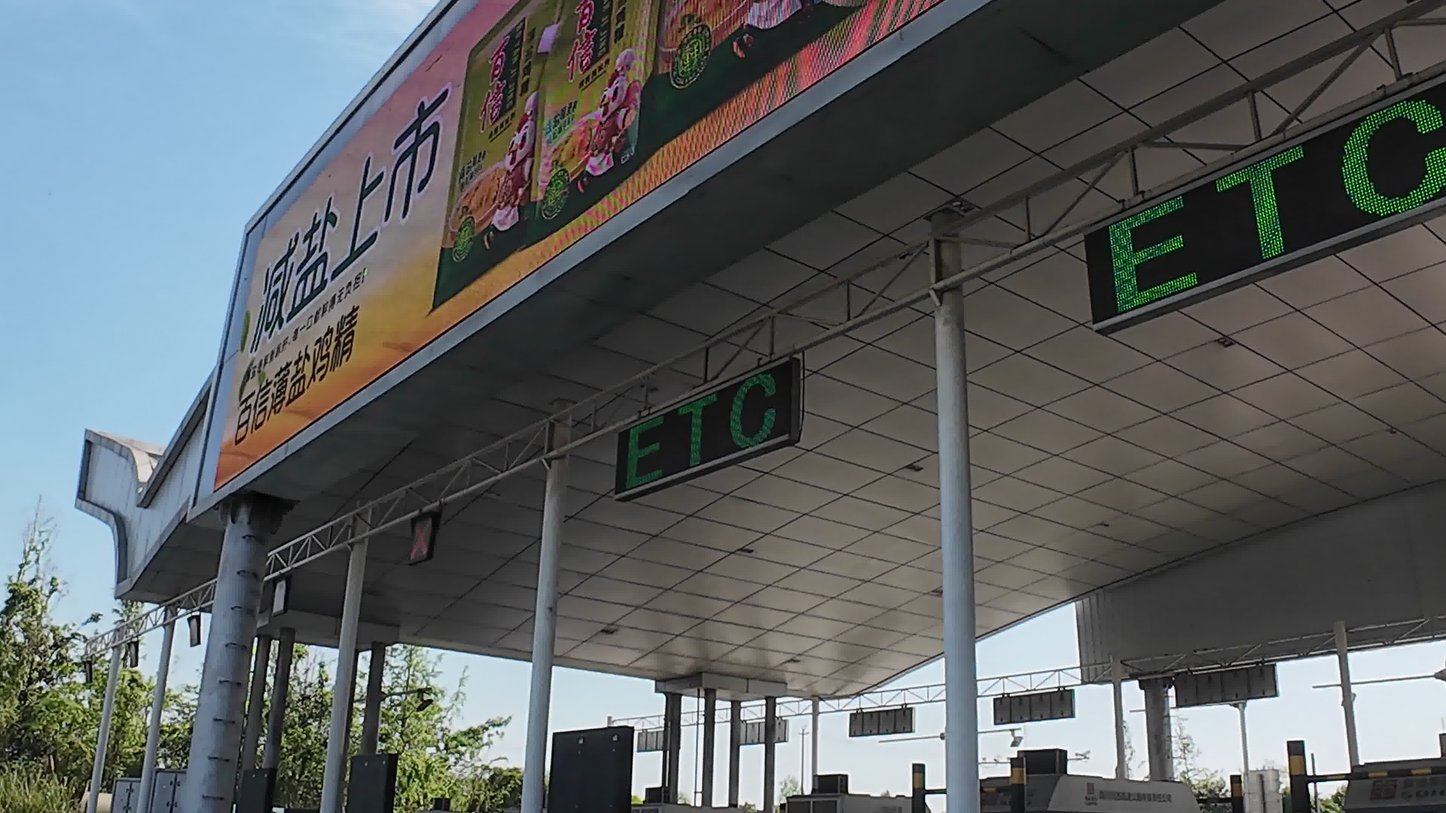led_screen: (229, 0, 937, 318), (591, 348, 856, 480), (1177, 670, 1308, 717), (989, 700, 1077, 721), (853, 710, 913, 737), (415, 508, 442, 568), (635, 729, 690, 757), (262, 575, 295, 617), (737, 719, 793, 740), (179, 609, 208, 641), (124, 635, 147, 670)
roadside_plant: (1076, 66, 1446, 320), (289, 639, 468, 805), (8, 573, 102, 813)
